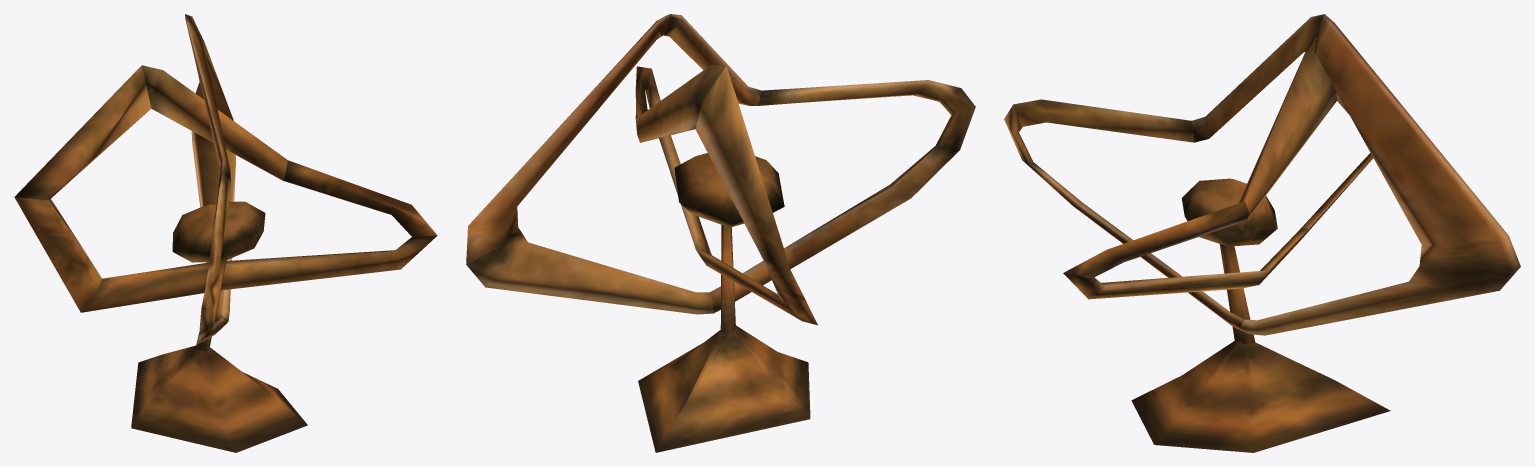
Rendered from frn_quest_sculpture_s01_l2.fbx.
3 renders of one model, left to right at view 1: azimuth 30°, elevation 25°; view 2: azimuth 150°, elevation 25°; view 3: azimuth 270°, elevation 25°, orthographic. The views are drawn at different scales.
Visible parts, largest first — view 1: mesh_node; view 2: mesh_node; view 3: mesh_node.
Part boxes in pixels (x1,y1,x2,y2): mesh_node: (14, 14, 437, 452); mesh_node: (466, 14, 975, 452); mesh_node: (1004, 14, 1520, 452).
Size of the model in its own units: 1.25 by 1.6 by 1.84.
